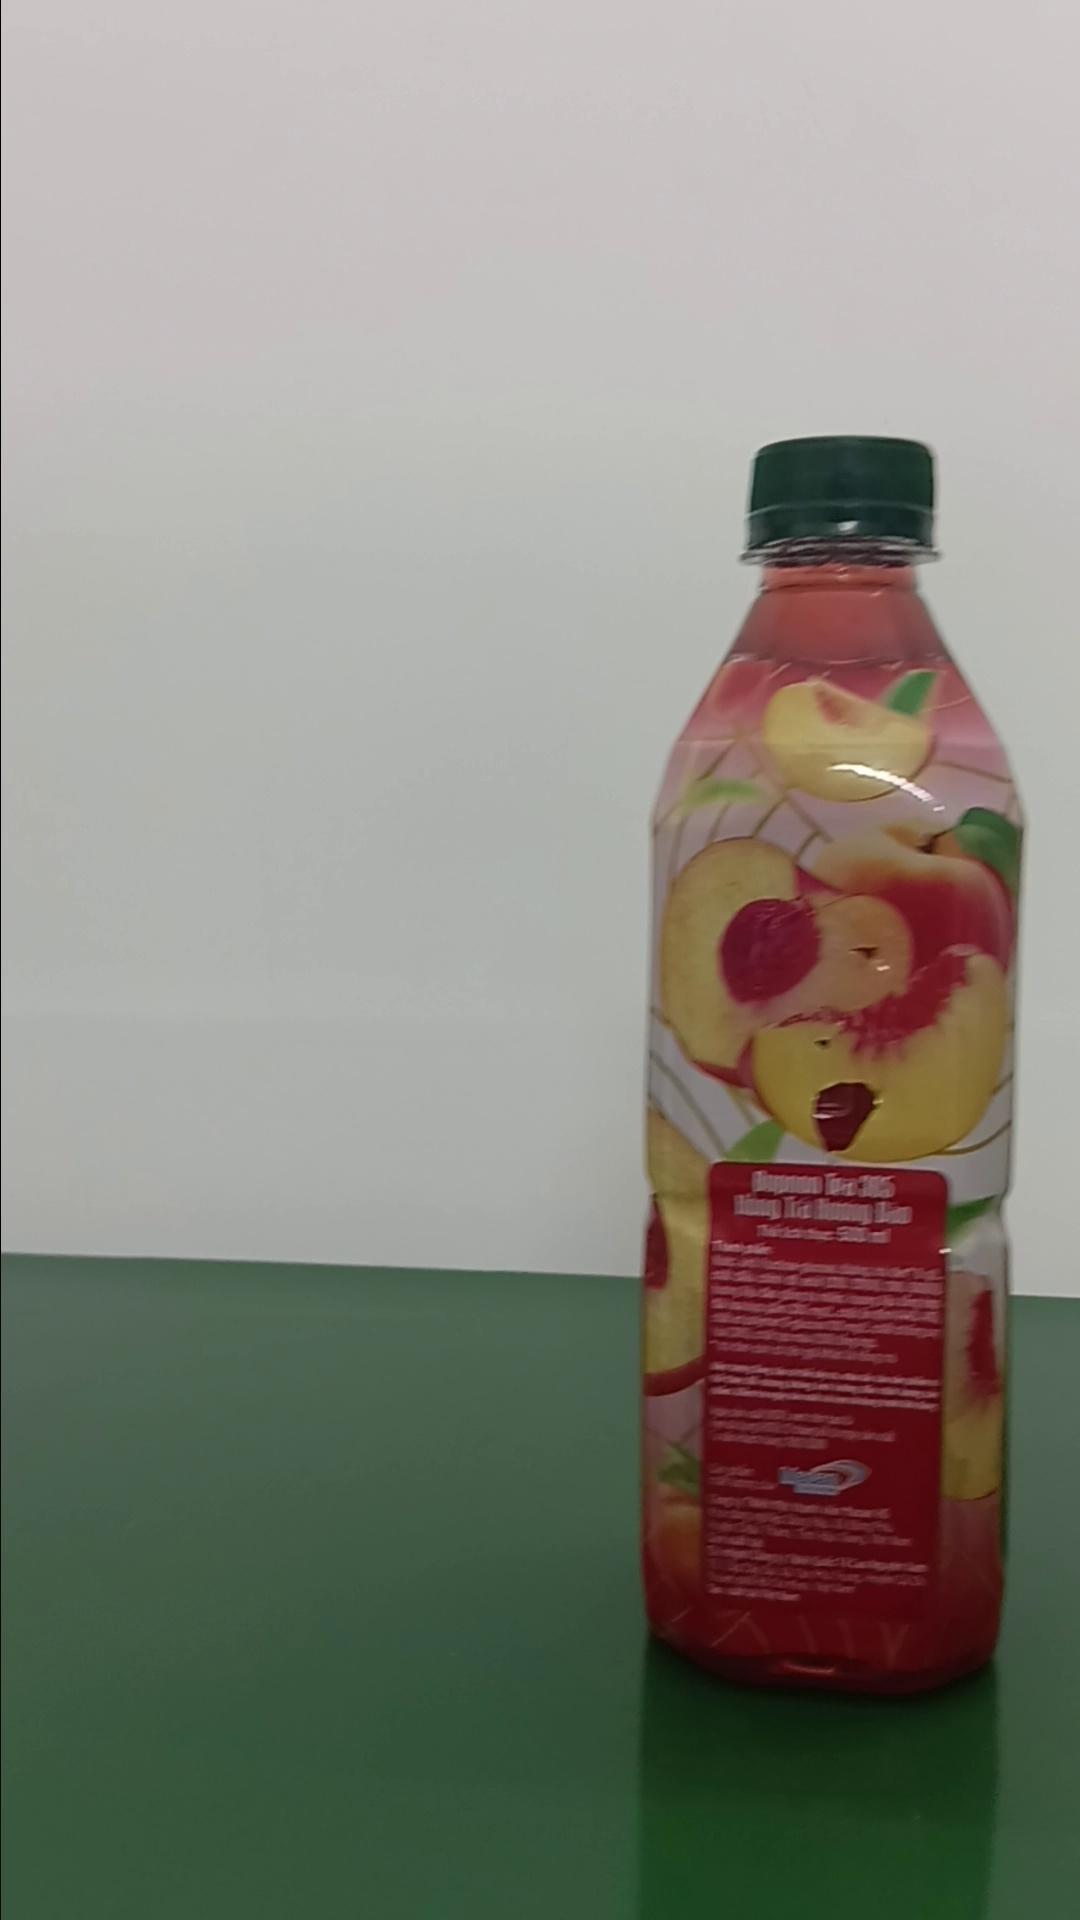loi rach va lap chai: (640, 426, 1025, 1701)
